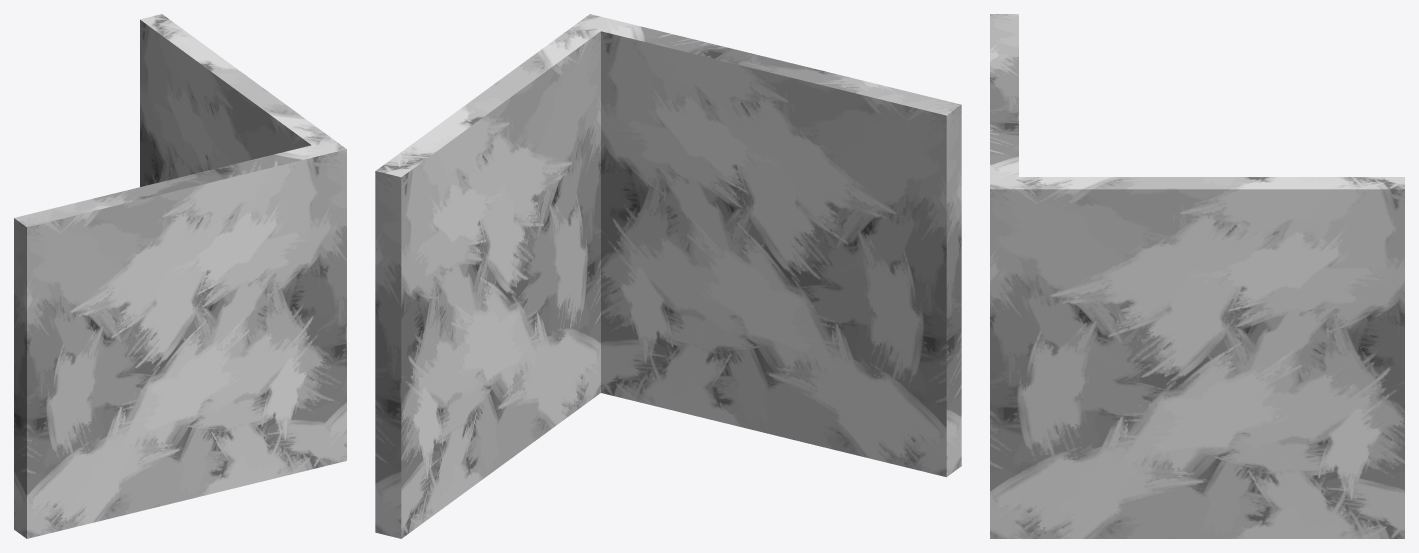
Rendered from Village_Wall_Stone_2m_Corner_A.fbx.
3 views of the same model, side by side, from view 1: azimuth 30°, elevation 25°; view 2: azimuth 150°, elevation 25°; view 3: azimuth 270°, elevation 25° (orthographic). The views are drawn at different scales.
Parts seen in each view (by area): view 1: Village_Wall_2m_Corner_A.042; view 2: Village_Wall_2m_Corner_A.042; view 3: Village_Wall_2m_Corner_A.042.
Part boxes in pixels (x1=…): Village_Wall_2m_Corner_A.042: x1=14, y1=14, x2=346, y2=538; Village_Wall_2m_Corner_A.042: x1=375, y1=14, x2=961, y2=538; Village_Wall_2m_Corner_A.042: x1=990, y1=14, x2=1404, y2=538.
Size of the model in its own units: 215 by 200 by 215.
